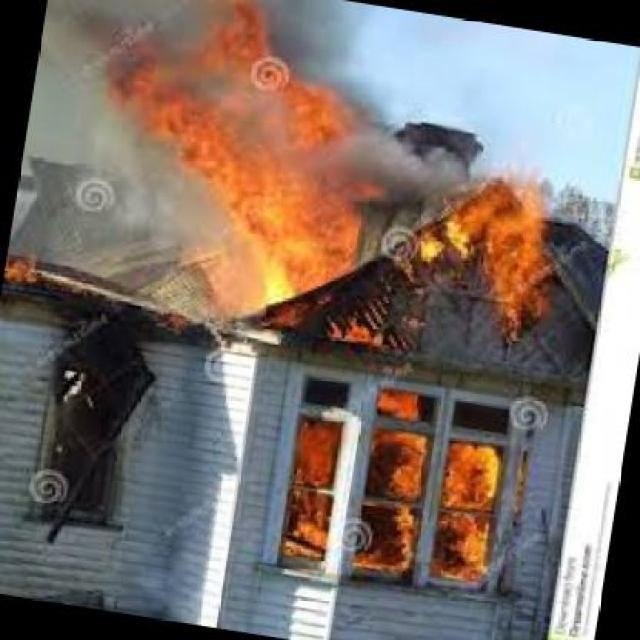Fire: (123, 36, 368, 274), (274, 394, 510, 592), (406, 182, 560, 313)
Smoke: (30, 133, 209, 262), (338, 108, 430, 212), (49, 0, 115, 132), (270, 0, 386, 65)
